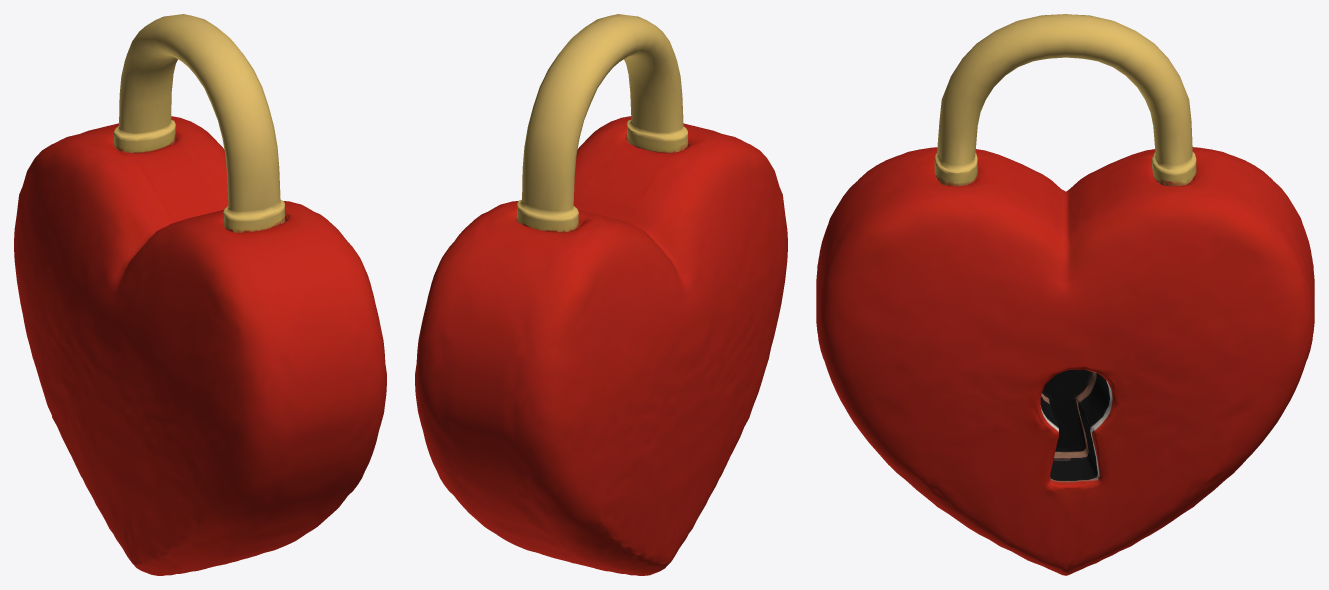
File: r33-lock.glb
The picture shows the model from 3 angles, left to right: view 1: azimuth 30°, elevation 25°; view 2: azimuth 150°, elevation 25°; view 3: azimuth 270°, elevation 25°; orthographic projection.
Visible parts, largest first — view 1: tripo_node_50281a90-95c5-45ef-b8d4-ea9a2d03c90e; view 2: tripo_node_50281a90-95c5-45ef-b8d4-ea9a2d03c90e; view 3: tripo_node_50281a90-95c5-45ef-b8d4-ea9a2d03c90e.
Part boxes in pixels (x1,y1,x2,y2): tripo_node_50281a90-95c5-45ef-b8d4-ea9a2d03c90e: [14, 14, 386, 575]; tripo_node_50281a90-95c5-45ef-b8d4-ea9a2d03c90e: [415, 14, 787, 575]; tripo_node_50281a90-95c5-45ef-b8d4-ea9a2d03c90e: [816, 14, 1314, 575].
Size of the model in its own units: 0.3535 by 0.998 by 0.8379.
1 material, 1 textured.
